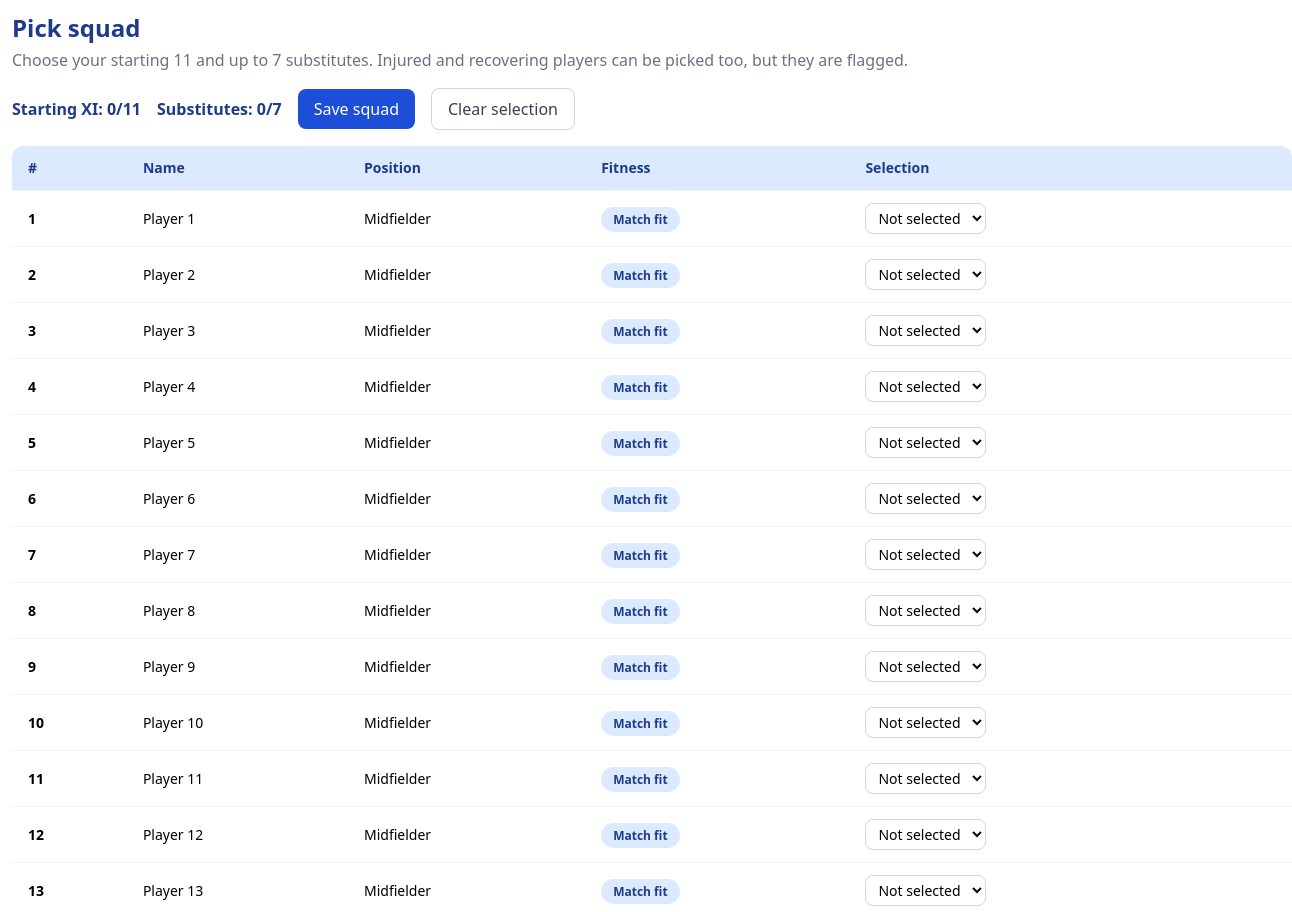
Test: does not allow an 8th substitute
Expected: the text "Player 1" is shown, [127,190,348,246]
Select "Substitute" in the dropdown named "Selection for Player 1" at x=926, y=218, box [865,203,986,234]
Select "Substitute" in the dropdown named "Selection for Player 2" at x=926, y=274, box [865,259,986,290]
Select "Substitute" in the dropdown named "Selection for Player 3" at x=926, y=330, box [865,315,986,346]
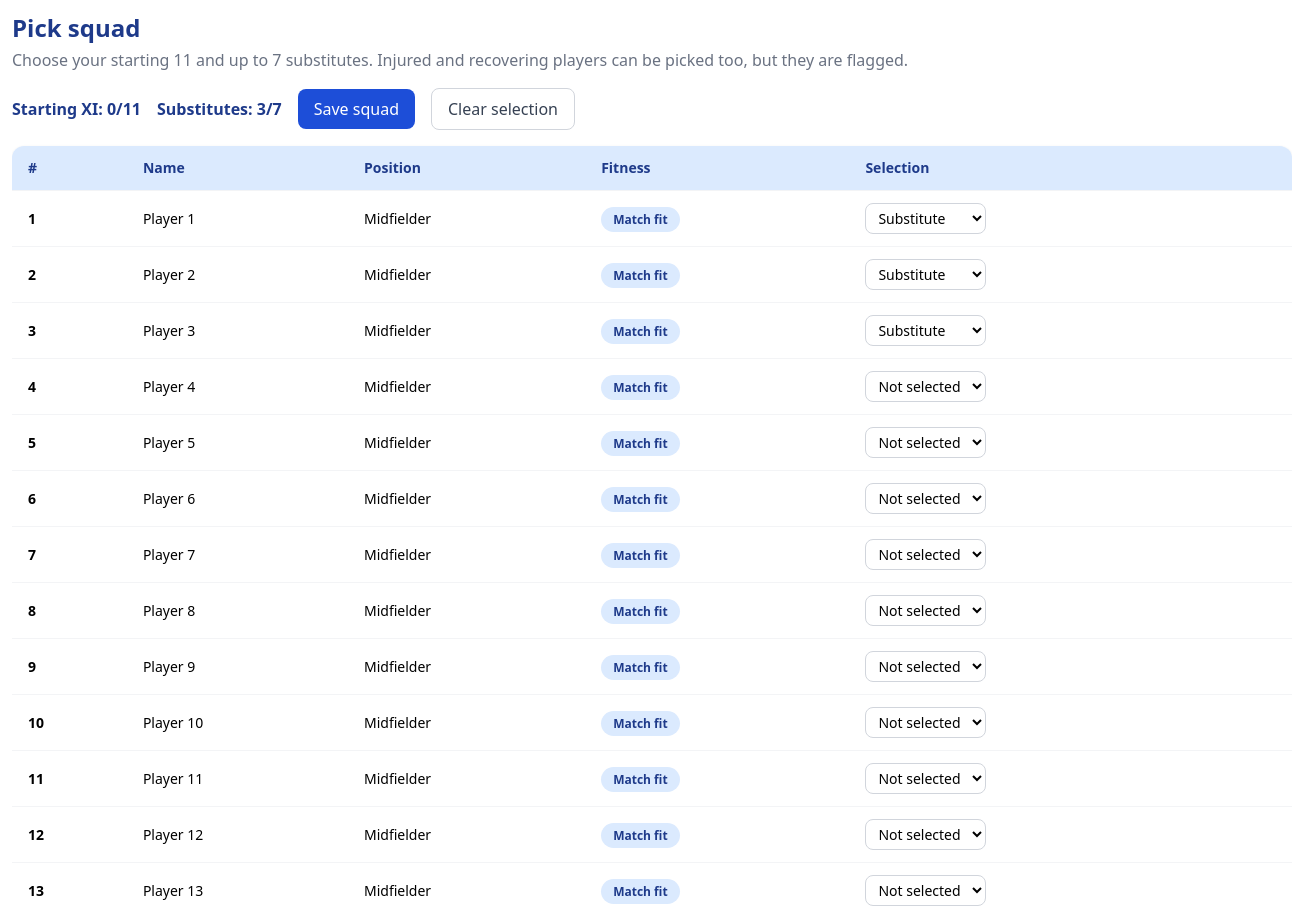
Select "Substitute" in the dropdown named "Selection for Player 4" at x=926, y=386, box [865,371,986,402]
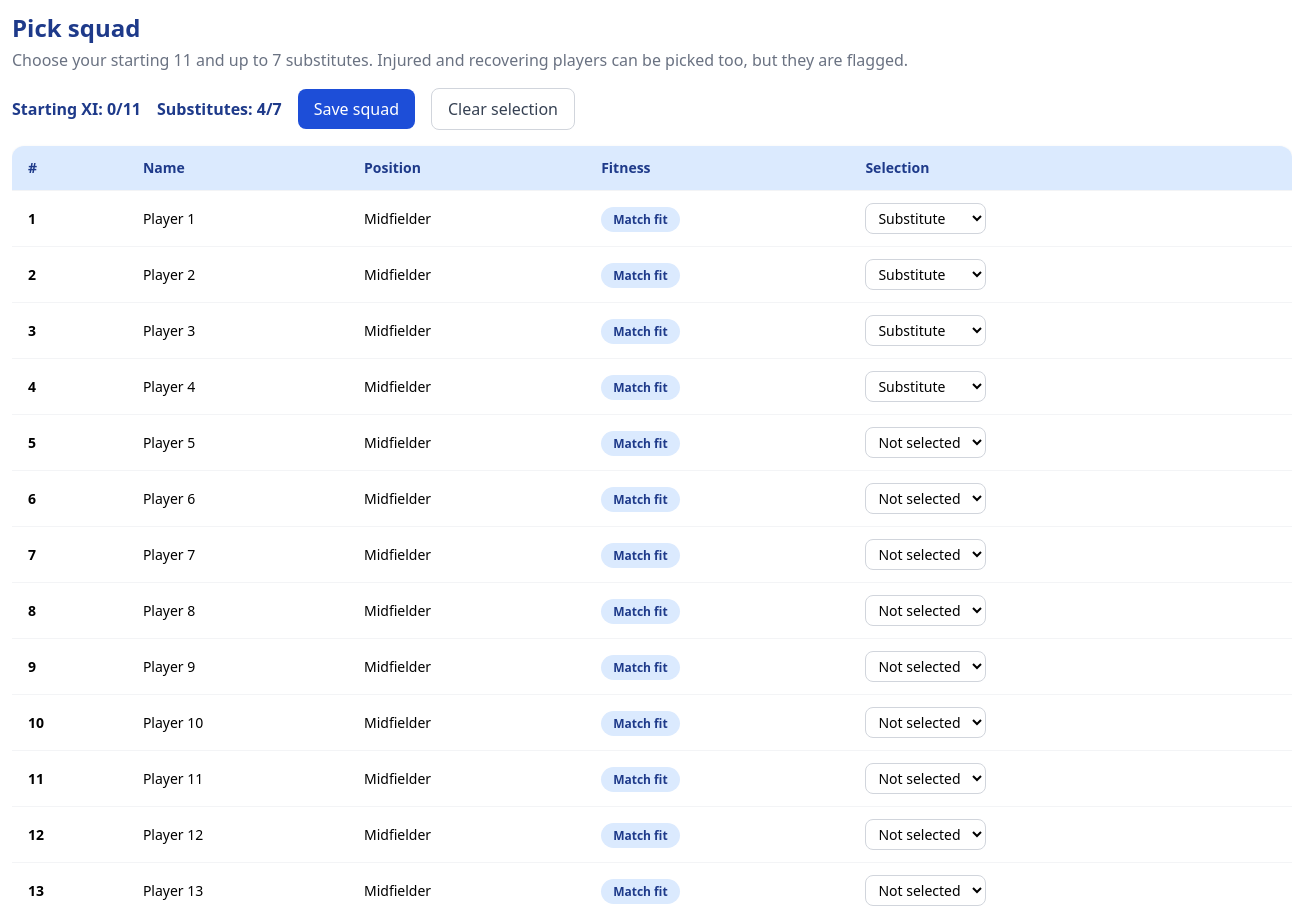
Select "Substitute" in the dropdown named "Selection for Player 5" at x=926, y=442, box [865,427,986,458]
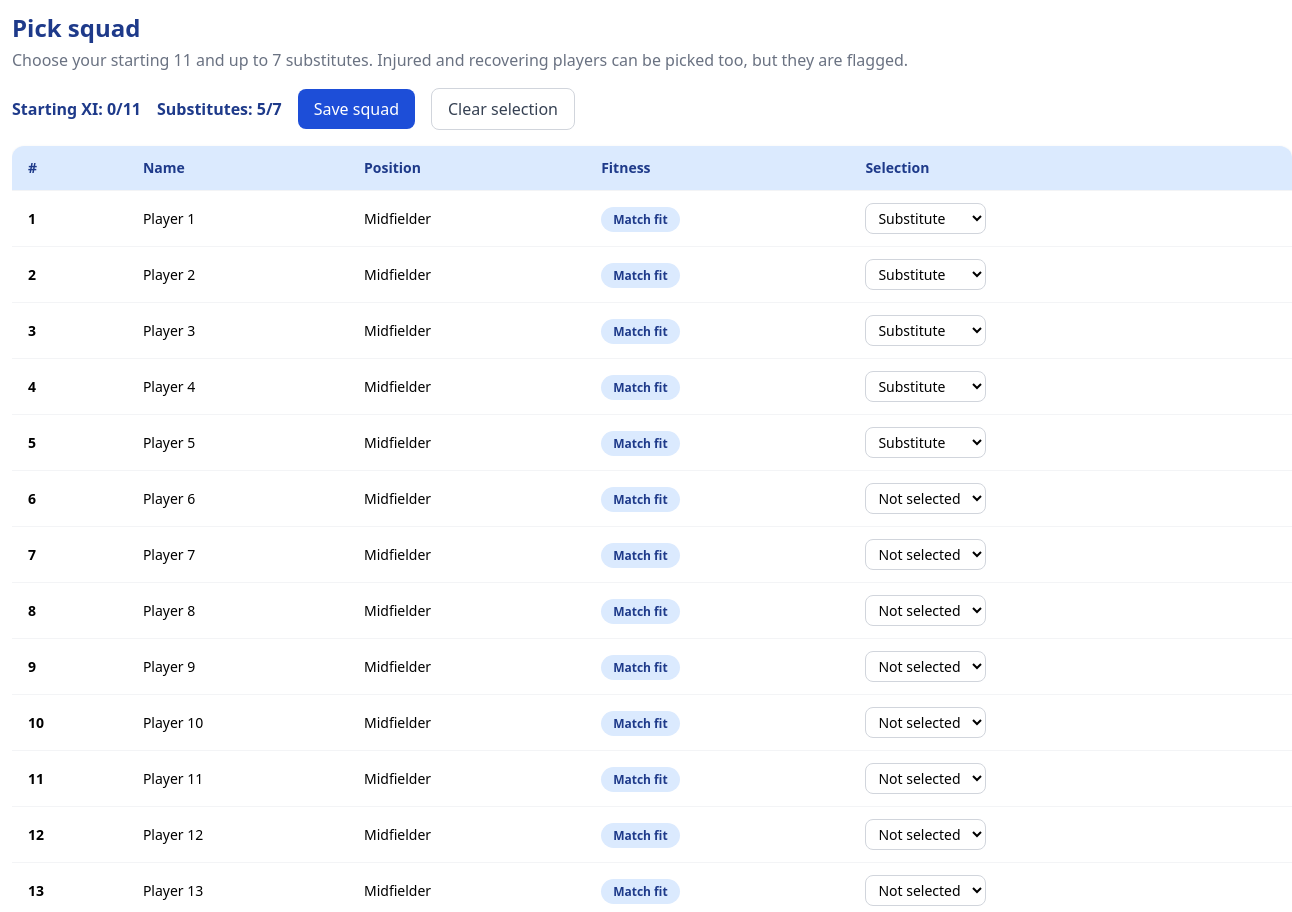
Select "Substitute" in the dropdown named "Selection for Player 6" at x=926, y=498, box [865,483,986,514]
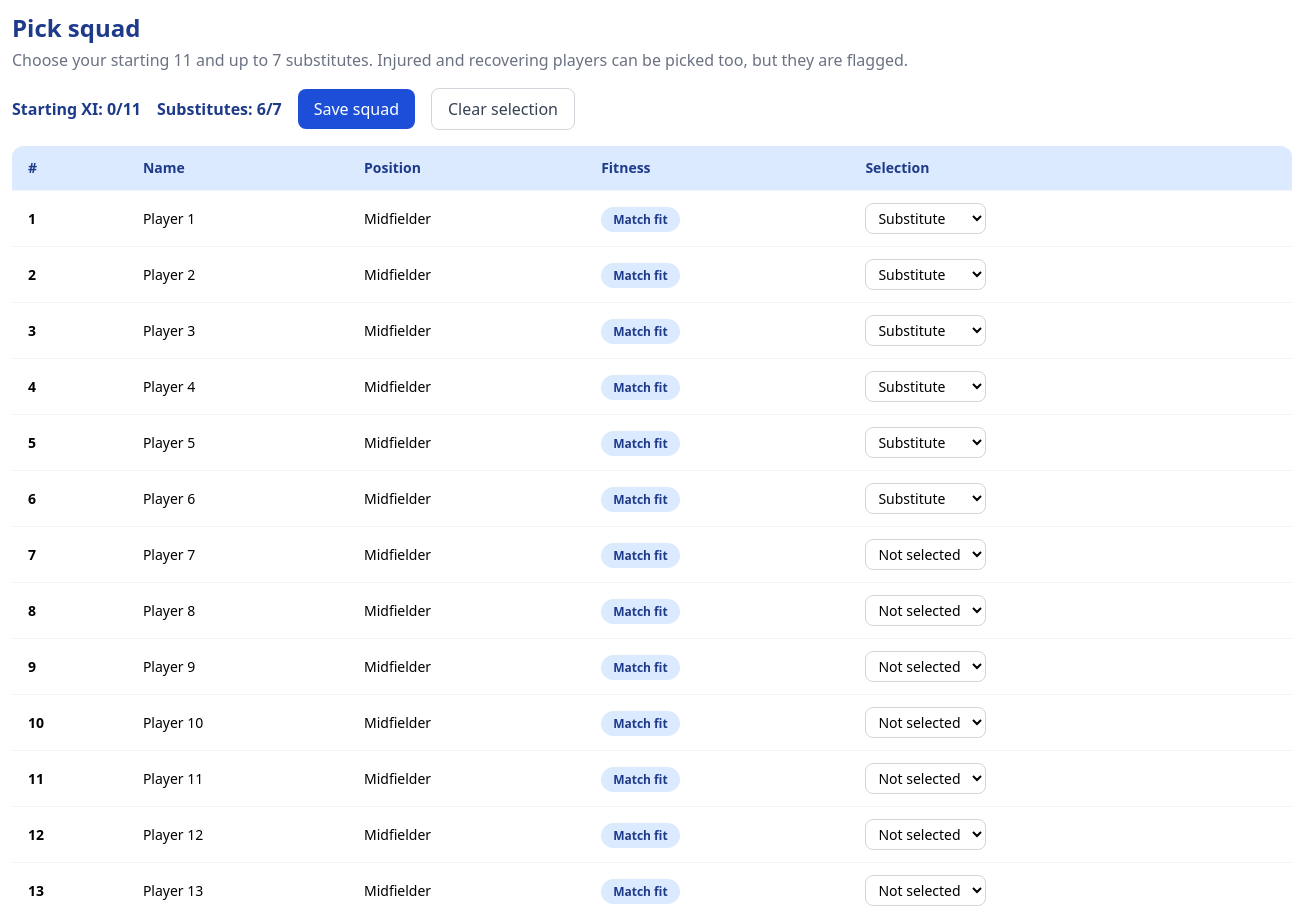
Select "Substitute" in the dropdown named "Selection for Player 7" at x=926, y=554, box [865,539,986,570]
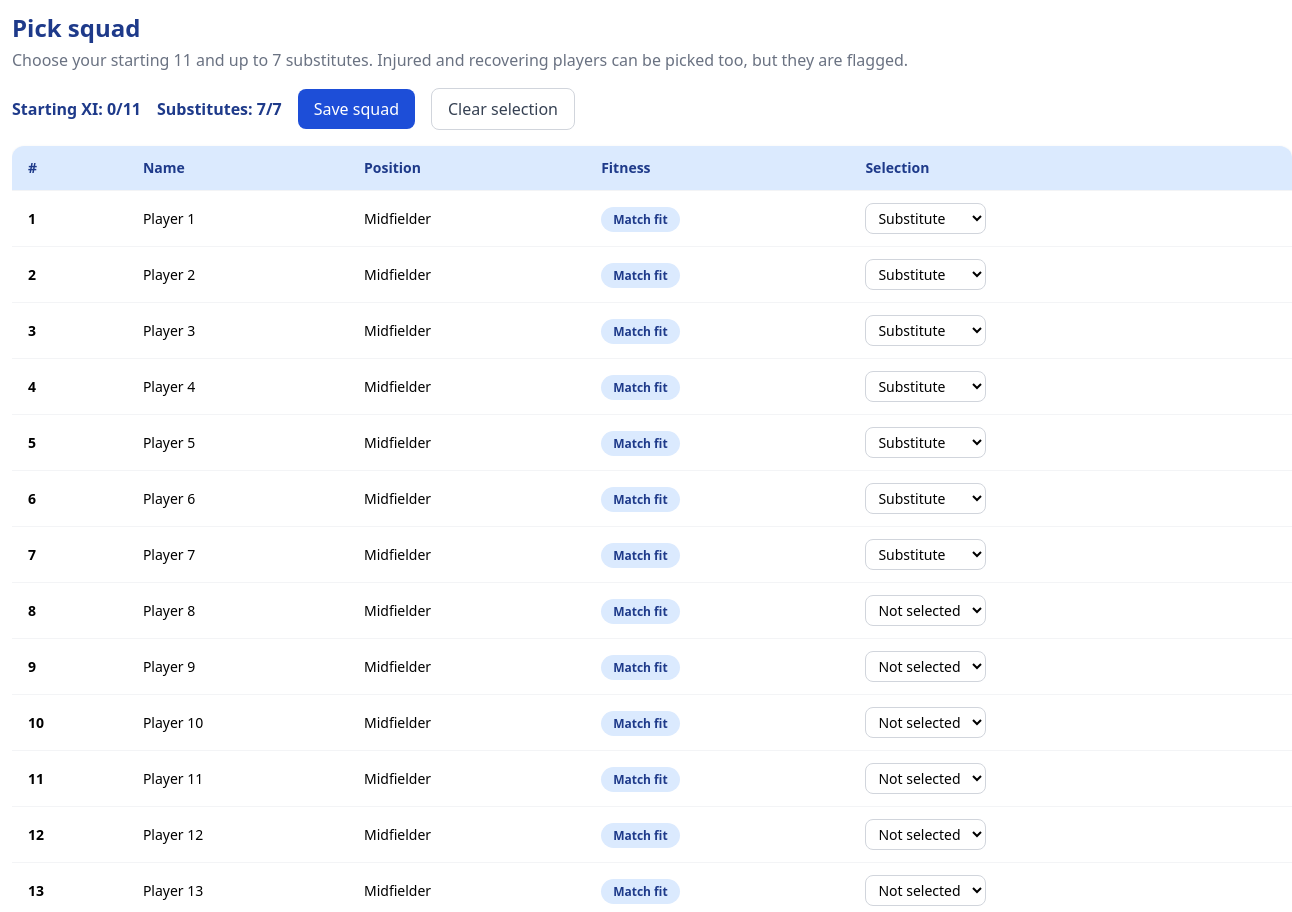
Select "Substitute" in the dropdown named "Selection for Player 8" at x=926, y=610, box [865,595,986,626]
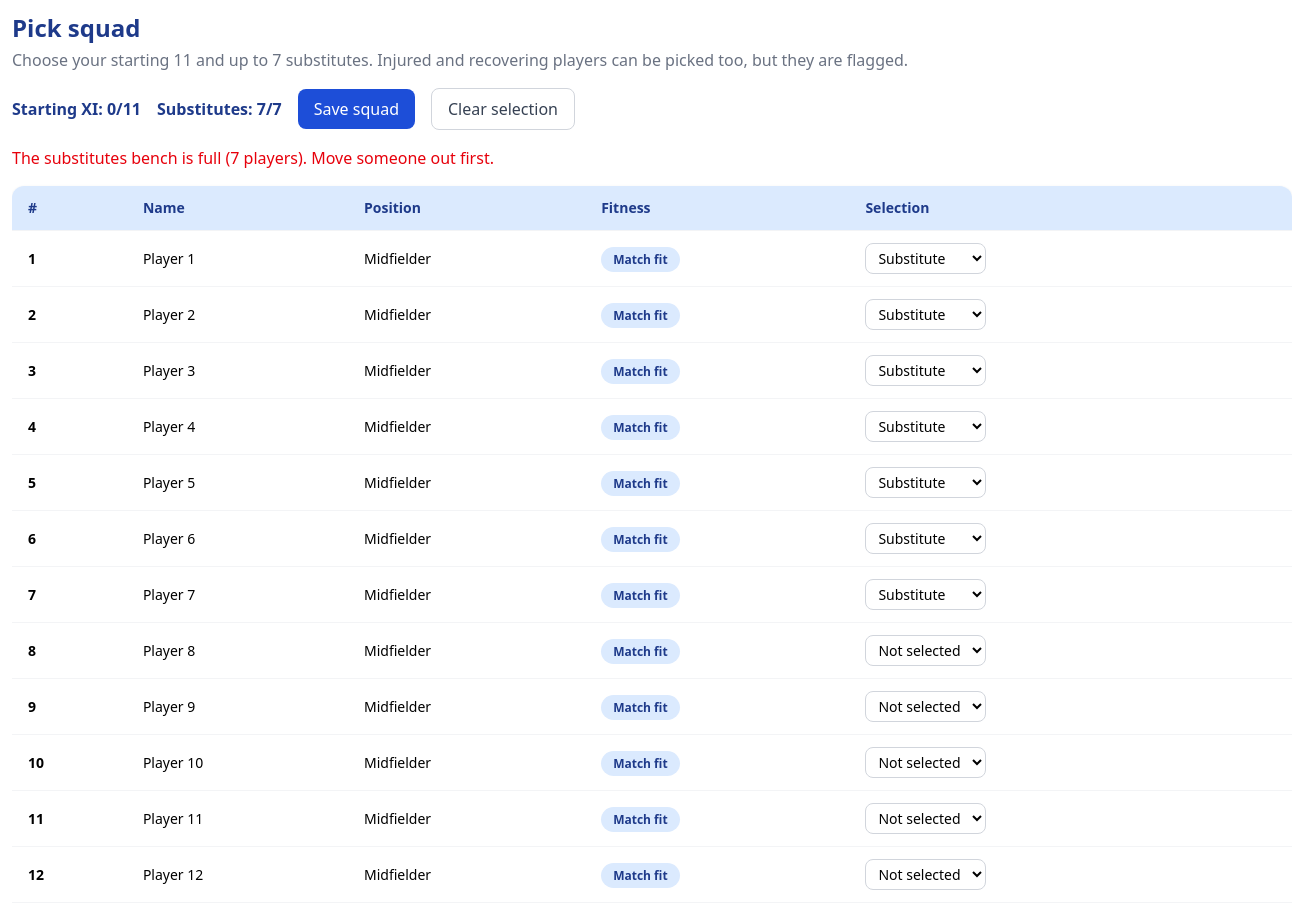
Now the text "substitutes bench is full" is shown, box [12,147,494,169]
